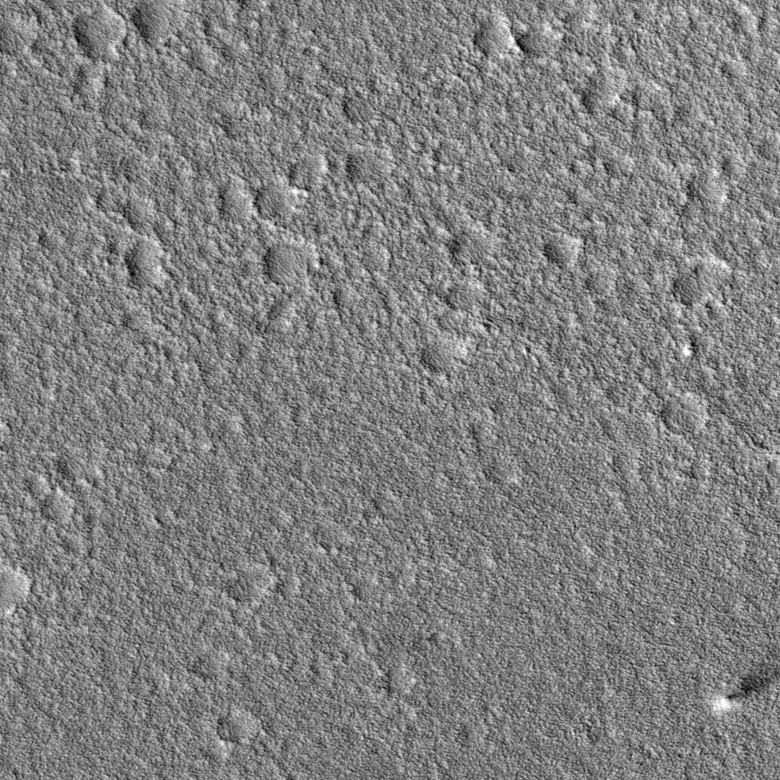dust_devil: (712, 654, 780, 716)
